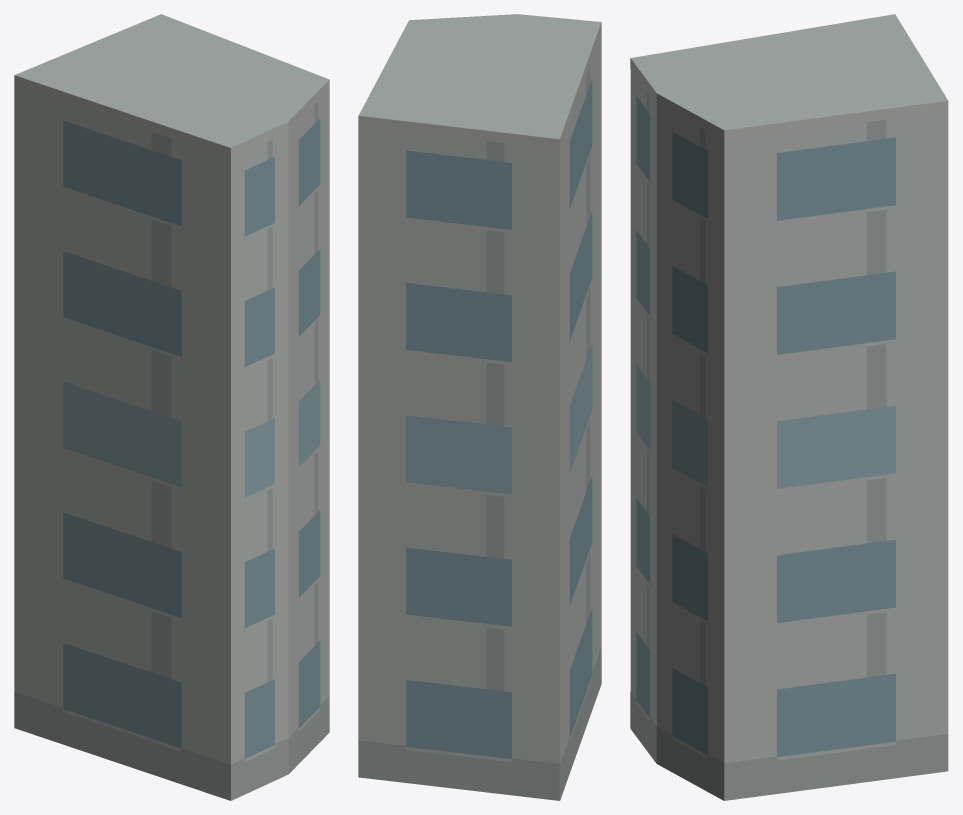
File: survey-upis-32838098.glb
The picture shows the model from 3 angles, left to right: view 1: azimuth 30°, elevation 25°; view 2: azimuth 150°, elevation 25°; view 3: azimuth 270°, elevation 25°; orthographic projection. The views are drawn at different scales.
Parts seen in each view (by area): view 1: survey-upis-32838098.tmp; view 2: survey-upis-32838098.tmp; view 3: survey-upis-32838098.tmp.
Part boxes in pixels (x1,y1,x2,y2): survey-upis-32838098.tmp: (14,14,329,800); survey-upis-32838098.tmp: (358,14,601,800); survey-upis-32838098.tmp: (630,14,948,800).
Size of the model in its own units: 5.68 by 15.25 by 6.56.
